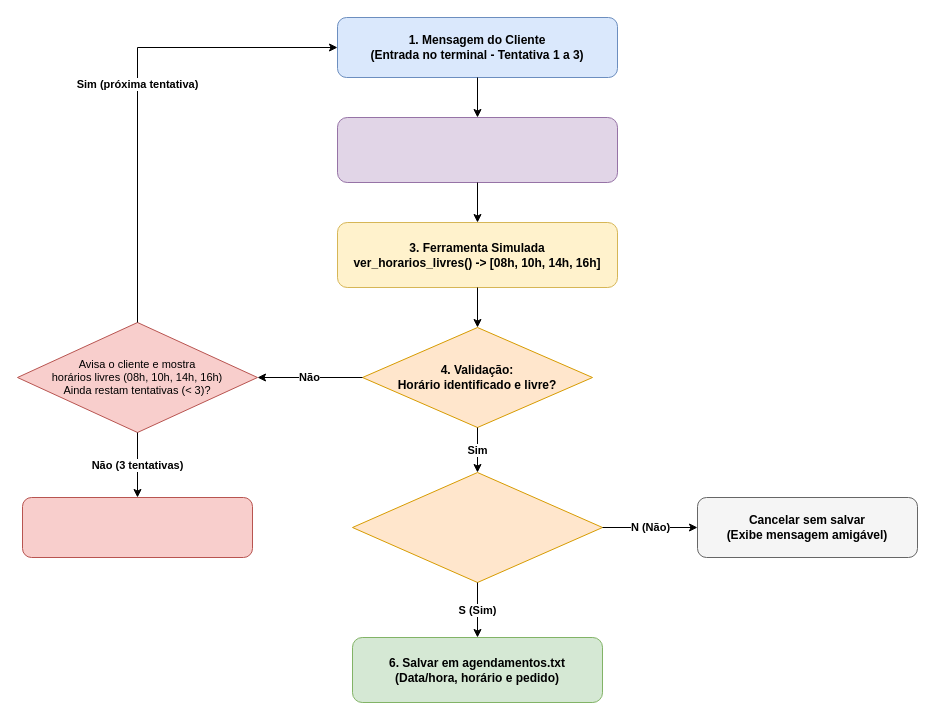
Image size: 935x720. Some labels were removed from this diagram. The centre of each missing label's shape, as x and y in pixels:
2. LLM (Ollama qwen2.5:3b) Interpreta o pedido e extrai o horário (ex.: 14h): the point at 477,149
5. Resumo do Agendamento + Confirmação Humana: Confirmar agendamento? (S/N): the point at 477,527
Encerra com mensagem educada (Limite de 3 tentativas atingido): the point at 137,527
